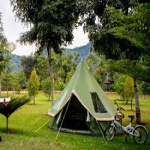Forest: (5, 4, 145, 91)
Uncultivated: (2, 85, 147, 149)
